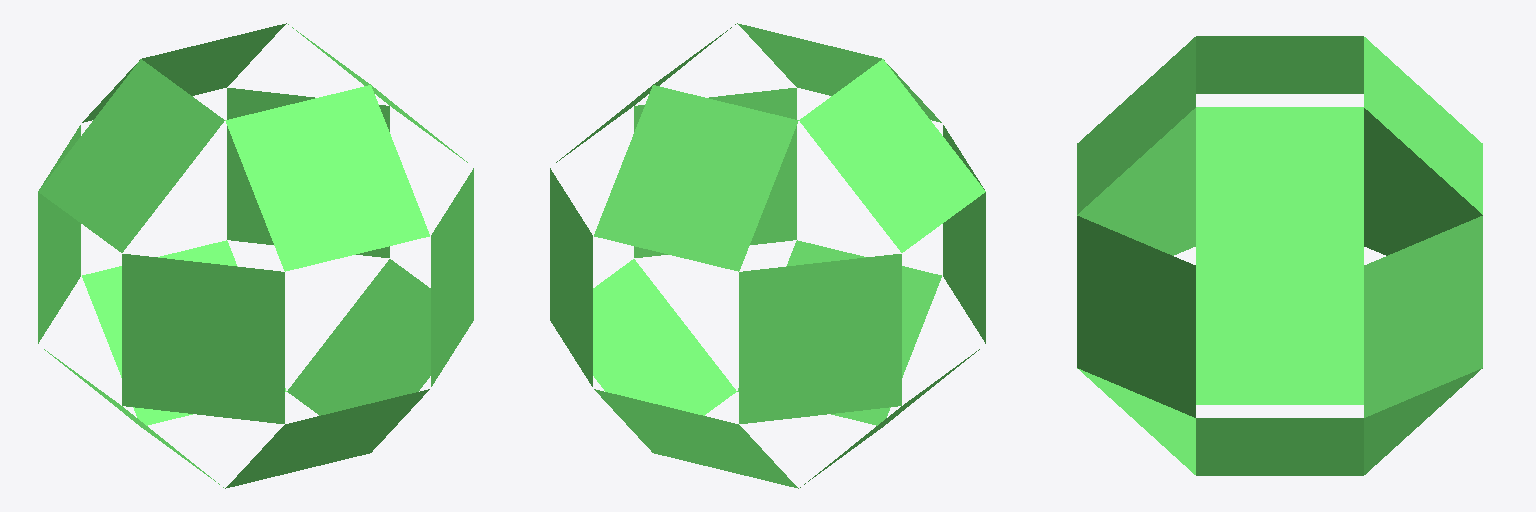
Rendered from RhombicuboctahedronA2.obj.
The picture shows the model from 3 angles: view 1: azimuth 30°, elevation 25°; view 2: azimuth 150°, elevation 25°; view 3: azimuth 270°, elevation 25°; orthographic projection.
Size of the model in its own units: 2.41 by 2.41 by 2.41.